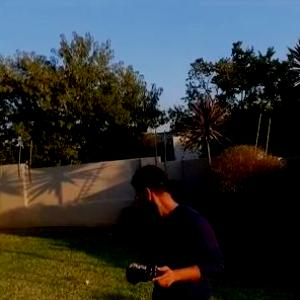follow: (121, 153, 226, 299)
